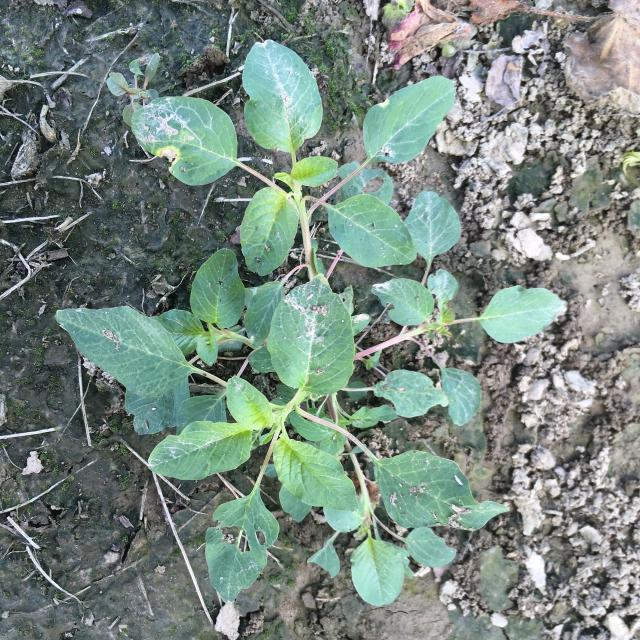PalmerAmaranth: (54, 40, 566, 608), (106, 53, 160, 127)
